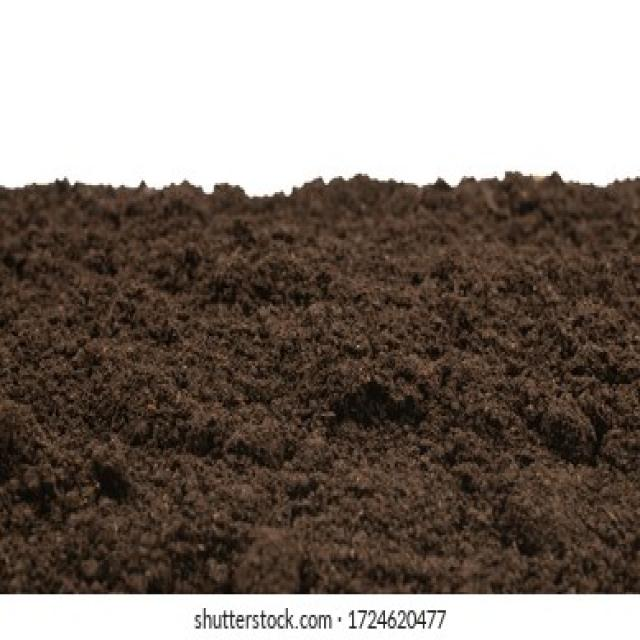Black Soil: (34, 209, 614, 512)
